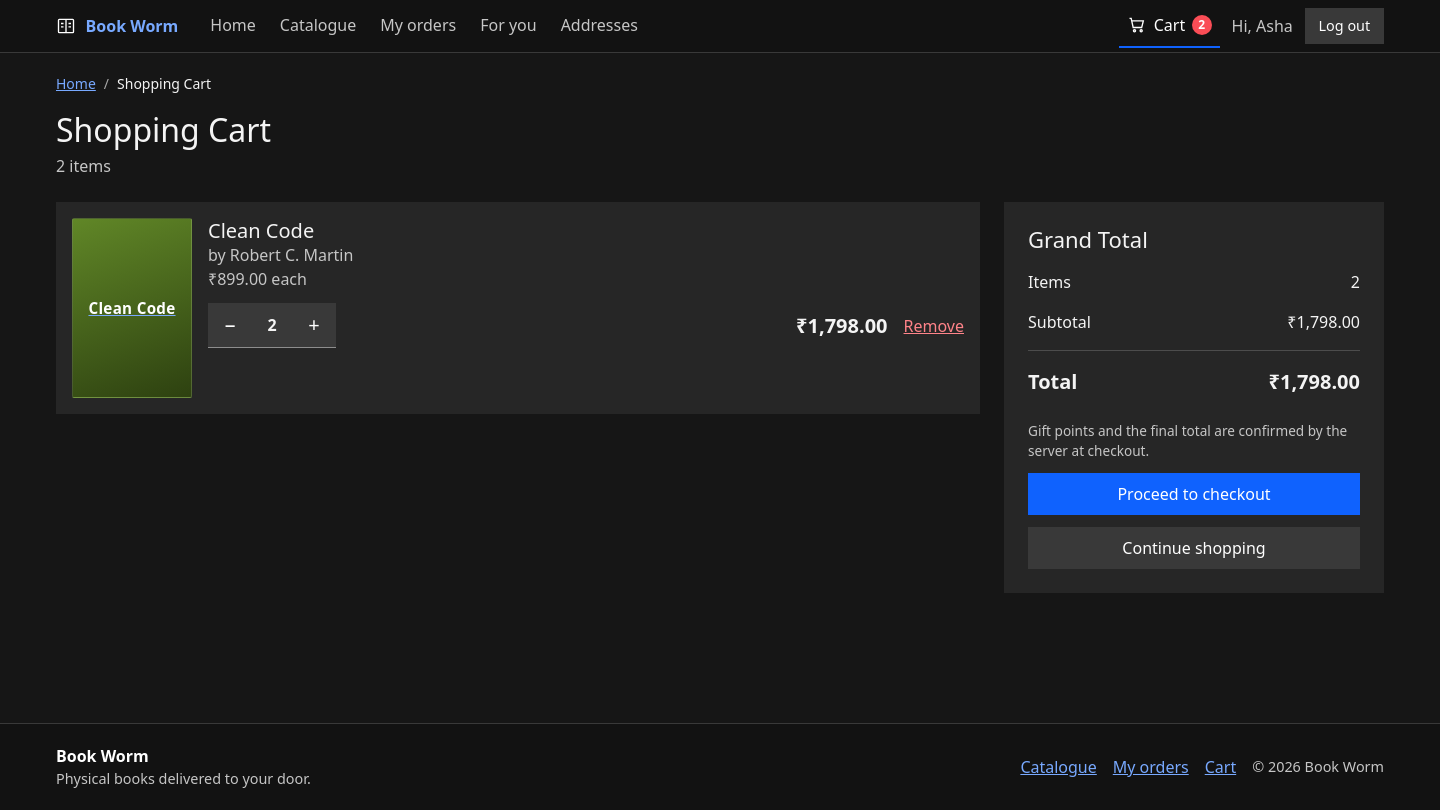
Scenario: Journey: managing the cart › shows a cart error and re-syncs when an update is rejected
Click the button named "Increase quantity of Clean Code" at (314, 325), box [292,303,336,347]
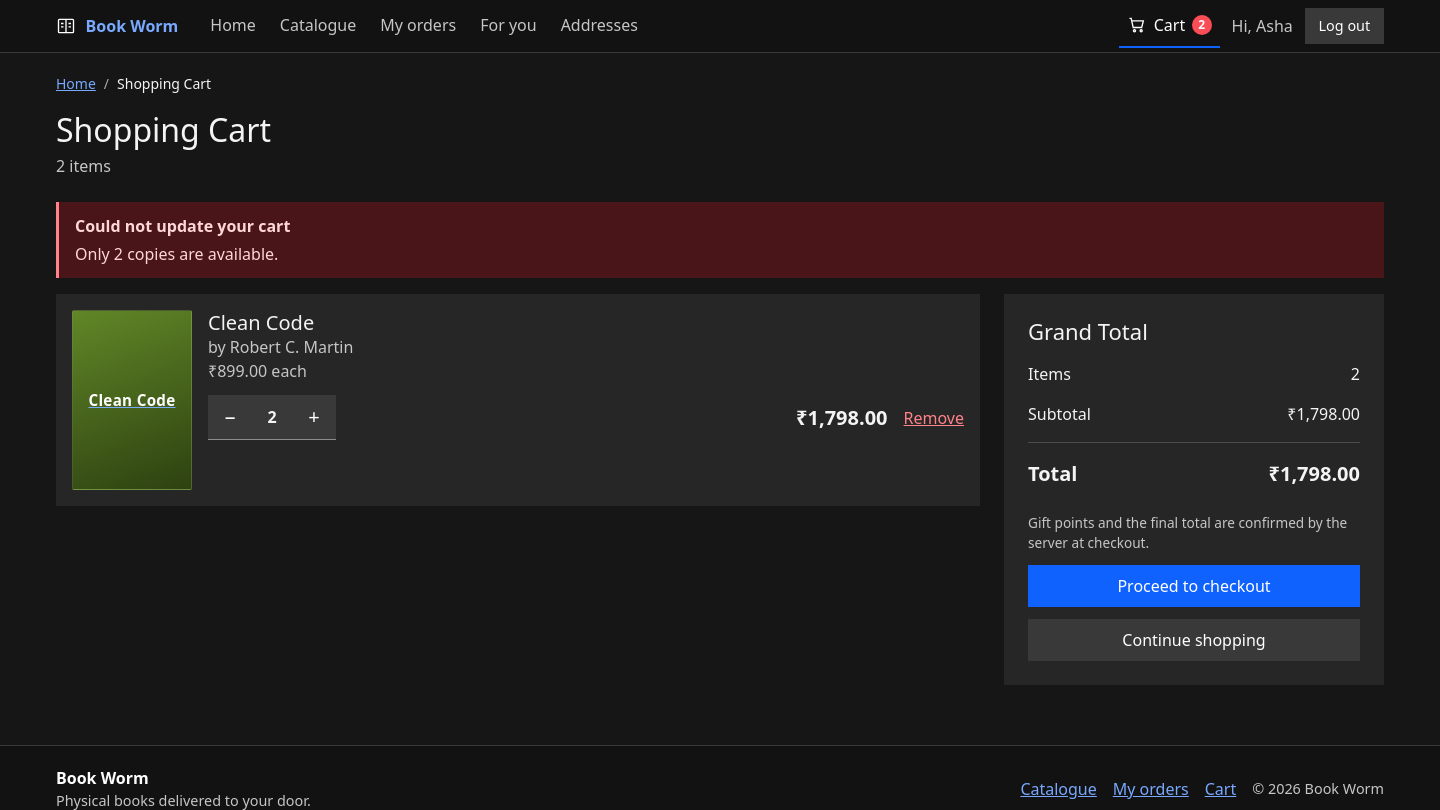
Result: the text "Only 2 copies are available." is shown at [75,243,278,265]
